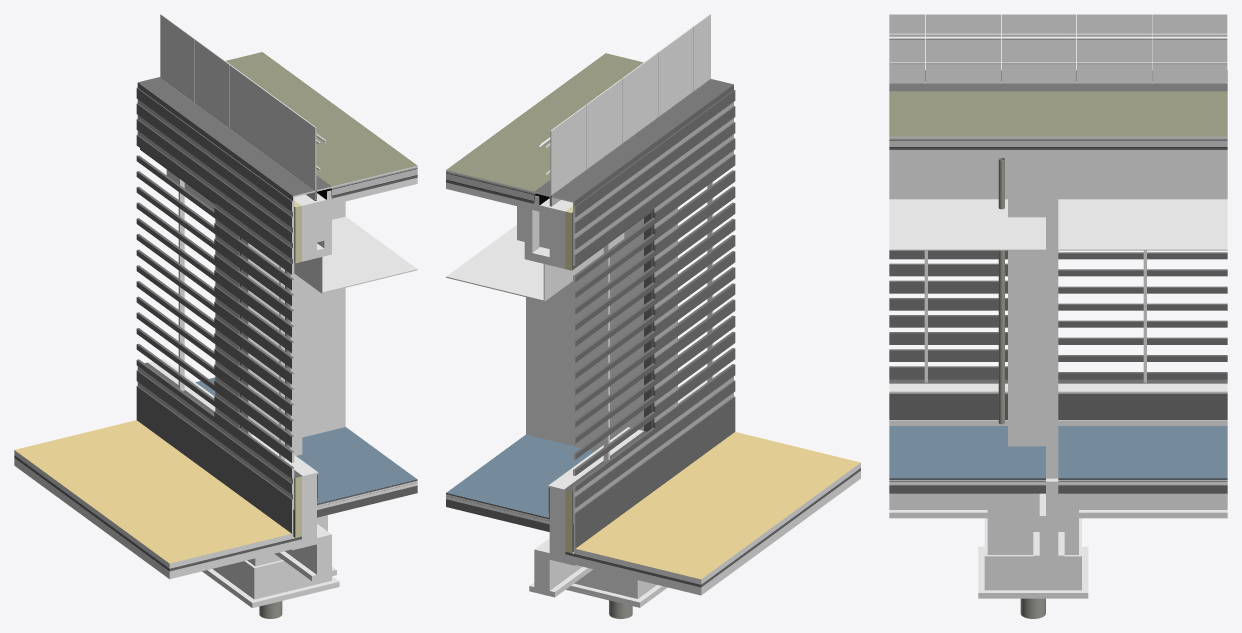
The model's file is yuncheng-c-02.glb.
3 renders of one model, left to right at view 1: azimuth 30°, elevation 25°; view 2: azimuth 150°, elevation 25°; view 3: azimuth 270°, elevation 25°, orthographic. The views are drawn at different scales.
Parts seen in each view (by area): view 1: 干挂黑色磨光花岗岩板, 513-场地-花岗岩硬地面-浅色.001, 646-材质-混凝土, 001-内墙-涂料-白色, 601-材质-玻璃-全透明, 花岗岩面层有保温上人屋面, 涂料－02, 地面, 405-顶棚-纸面石膏板吊顶, 647-材质-水泥砂浆, 636-材质-石材-大理石, 涂料－01 (+4 smaller); view 2: 干挂黑色磨光花岗岩板, 513-场地-花岗岩硬地面-浅色.001, 001-内墙-涂料-白色, 646-材质-混凝土, 601-材质-玻璃-全透明, 花岗岩面层有保温上人屋面, 地面, 涂料－02, 647-材质-水泥砂浆, 405-顶棚-纸面石膏板吊顶, 636-材质-石材-大理石, 涂料－01 (+3 smaller); view 3: 干挂黑色磨光花岗岩板, 001-内墙-涂料-白色, 646-材质-混凝土, 601-材质-玻璃-全透明, 地面, 405-顶棚-纸面石膏板吊顶, 花岗岩面层有保温上人屋面, 647-材质-水泥砂浆, 涂料－01, 616-材质-金属-银色, 651-材质-保温-聚合物发泡, 609-材质-金属-钢 (+6 smaller).
Part boxes in pixels (bbox=[...]): 干挂黑色磨光花岗岩板: bbox=[136, 77, 331, 533]; 513-场地-花岗岩硬地面-浅色.001: bbox=[15, 420, 291, 563]; 646-材质-混凝土: bbox=[14, 177, 417, 599]; 001-内墙-涂料-白色: bbox=[166, 169, 345, 566]; 601-材质-玻璃-全透明: bbox=[160, 14, 316, 199]; 花岗岩面层有保温上人屋面: bbox=[226, 52, 417, 186]; 涂料－02: bbox=[137, 99, 292, 499]; 地面: bbox=[195, 377, 417, 505]; 405-顶棚-纸面石膏板吊顶: bbox=[294, 216, 417, 293]; 647-材质-水泥砂浆: bbox=[14, 148, 417, 571]; 636-材质-石材-大理石: bbox=[14, 450, 318, 568]; 涂料－01: bbox=[202, 551, 339, 607]; 干挂黑色磨光花岗岩板: bbox=[534, 79, 735, 548]; 513-场地-花岗岩硬地面-浅色.001: bbox=[575, 432, 860, 579]; 001-内墙-涂料-白色: bbox=[526, 182, 713, 462]; 646-材质-混凝土: bbox=[446, 182, 860, 598]; 601-材质-玻璃-全透明: bbox=[550, 14, 710, 205]; 花岗岩面层有保温上人屋面: bbox=[446, 53, 643, 191]; 地面: bbox=[446, 434, 594, 519]; 涂料－02: bbox=[574, 102, 733, 513]; 647-材质-水泥砂浆: bbox=[446, 180, 860, 587]; 405-顶棚-纸面石膏板吊顶: bbox=[446, 225, 572, 301]; 636-材质-石材-大理石: bbox=[548, 463, 860, 584]; 涂料－01: bbox=[529, 567, 667, 607]; 干挂黑色磨光花岗岩板: bbox=[889, 70, 1227, 379]; 001-内墙-涂料-白色: bbox=[889, 156, 1227, 554]; 646-材质-混凝土: bbox=[889, 150, 1227, 590]; 601-材质-玻璃-全透明: bbox=[889, 14, 1227, 82]; 地面: bbox=[889, 426, 1227, 479]; 405-顶棚-纸面石膏板吊顶: bbox=[889, 199, 1227, 249]; 花岗岩面层有保温上人屋面: bbox=[889, 91, 1227, 136]; 647-材质-水泥砂浆: bbox=[889, 147, 1227, 493]; 涂料－01: bbox=[889, 510, 1227, 598]; 616-材质-金属-银色: bbox=[889, 33, 1227, 64]; 651-材质-保温-聚合物发泡: bbox=[889, 140, 1227, 146]; 609-材质-金属-钢: bbox=[998, 157, 1045, 618].
Size of the model in its own units: 0.9723 by 2.02 by 1.05.
